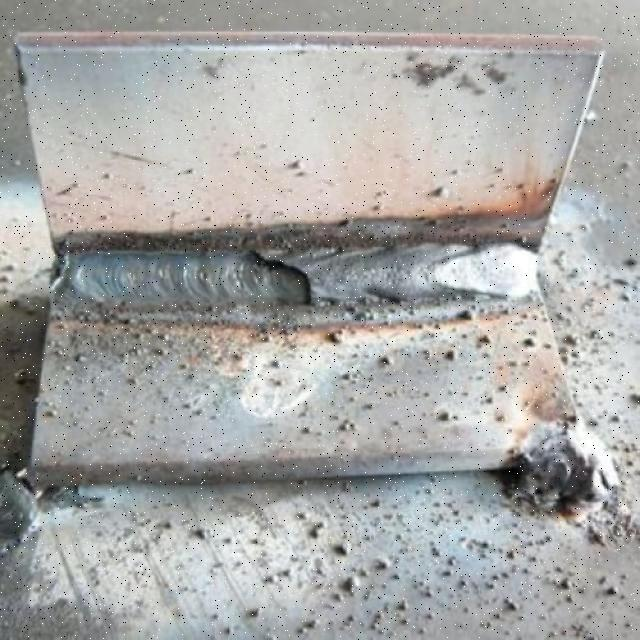Bad Welding: (47, 222, 546, 334)
